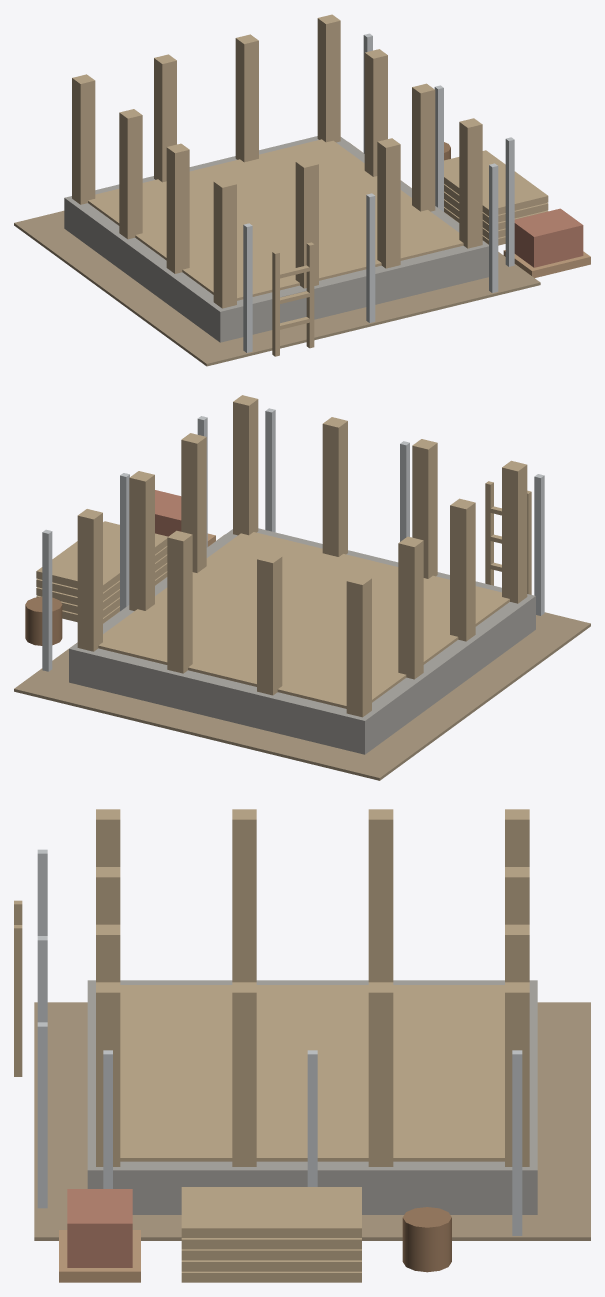
Rendered from rabbit_hutch_site_3.glb.
The picture shows the model from 3 angles, top to bottom: view 1: azimuth 30°, elevation 25°; view 2: azimuth 150°, elevation 25°; view 3: azimuth 270°, elevation 25°; orthographic projection. The views are drawn at different scales.
Visible parts, largest first — view 1: body; view 2: body; view 3: body.
Part boxes in pixels (<box>): body: <box>14,14,590,366</box>; body: <box>14,395,590,780</box>; body: <box>14,809,590,1282</box>.
Size of the model in its own units: 1.6 by 0.6 by 1.41.
